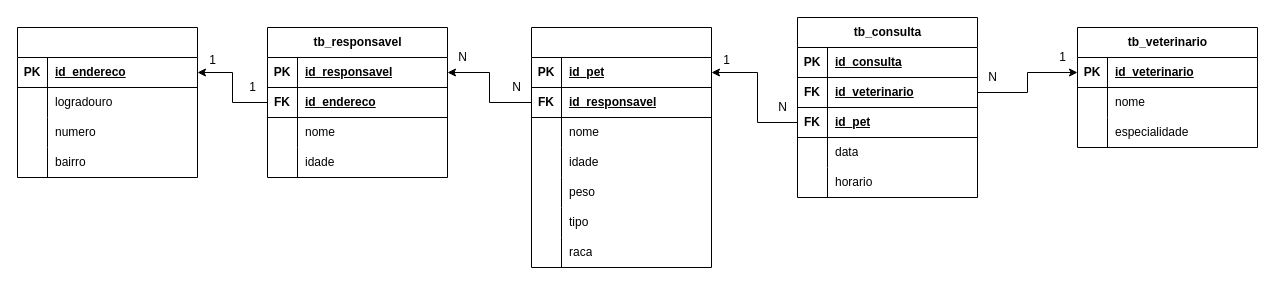
Image size: 1275x285. Some labels were removed from this diagram. The shapes that lost their labels are listed below. From the top down, each one's box as (x1, y1, x2, y2) in pixels, then its label:
(16, 26, 198, 178): tb_endereco
(530, 26, 712, 268): tb_pet
